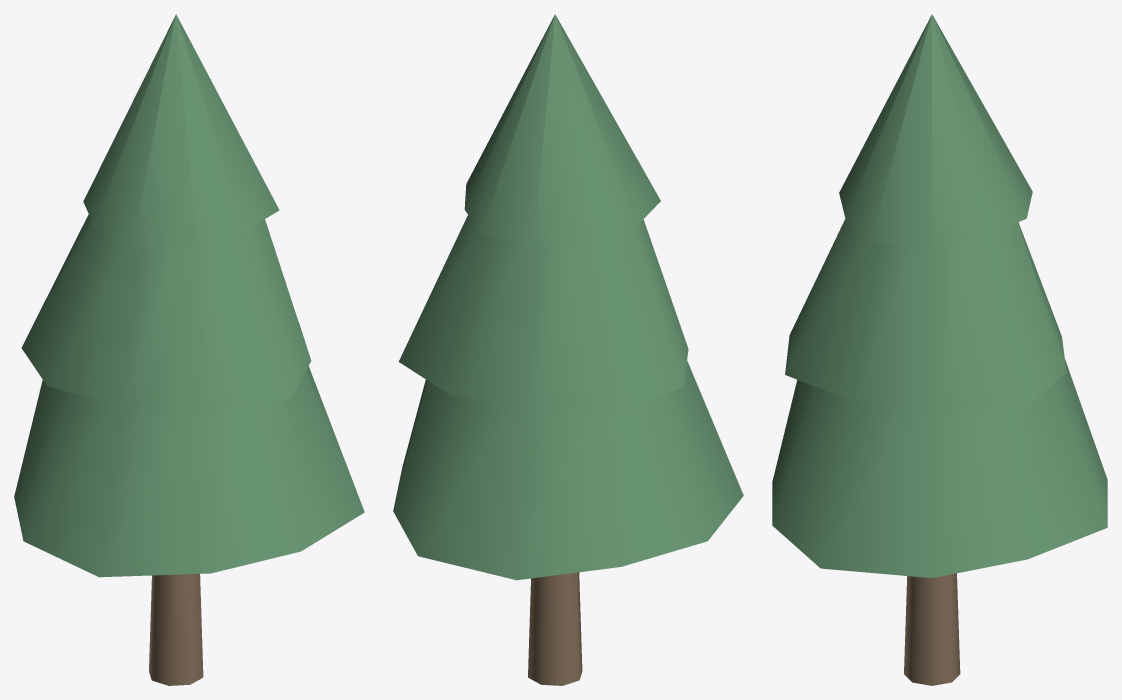
The model's file is tree.glb.
3 views of the same model, side by side, from view 1: azimuth 30°, elevation 25°; view 2: azimuth 150°, elevation 25°; view 3: azimuth 270°, elevation 25° (orthographic).
Parts seen in each view (by area): view 1: tree; view 2: tree; view 3: tree.
Part boxes in pixels (x1,y1,x2,y2): tree: [14, 14, 364, 685]; tree: [393, 14, 743, 685]; tree: [772, 14, 1107, 685].
Size of the model in its own units: 1.5 by 3.1 by 1.43.
